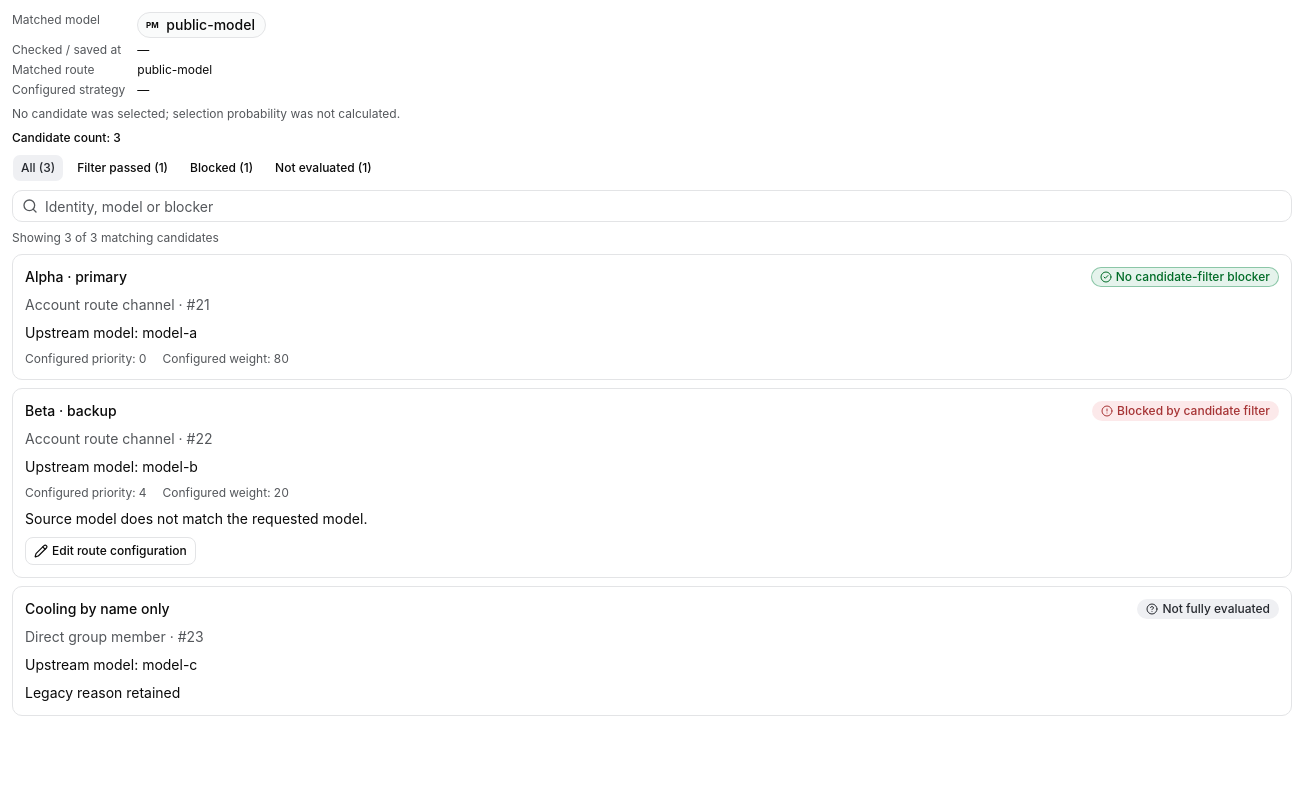
Test: diagnostic candidate inventory › filters by evaluated state without inferring it from a candidate name
Click the button "Blocked (1)".
click(222, 168)  # box [181,154,262,182]
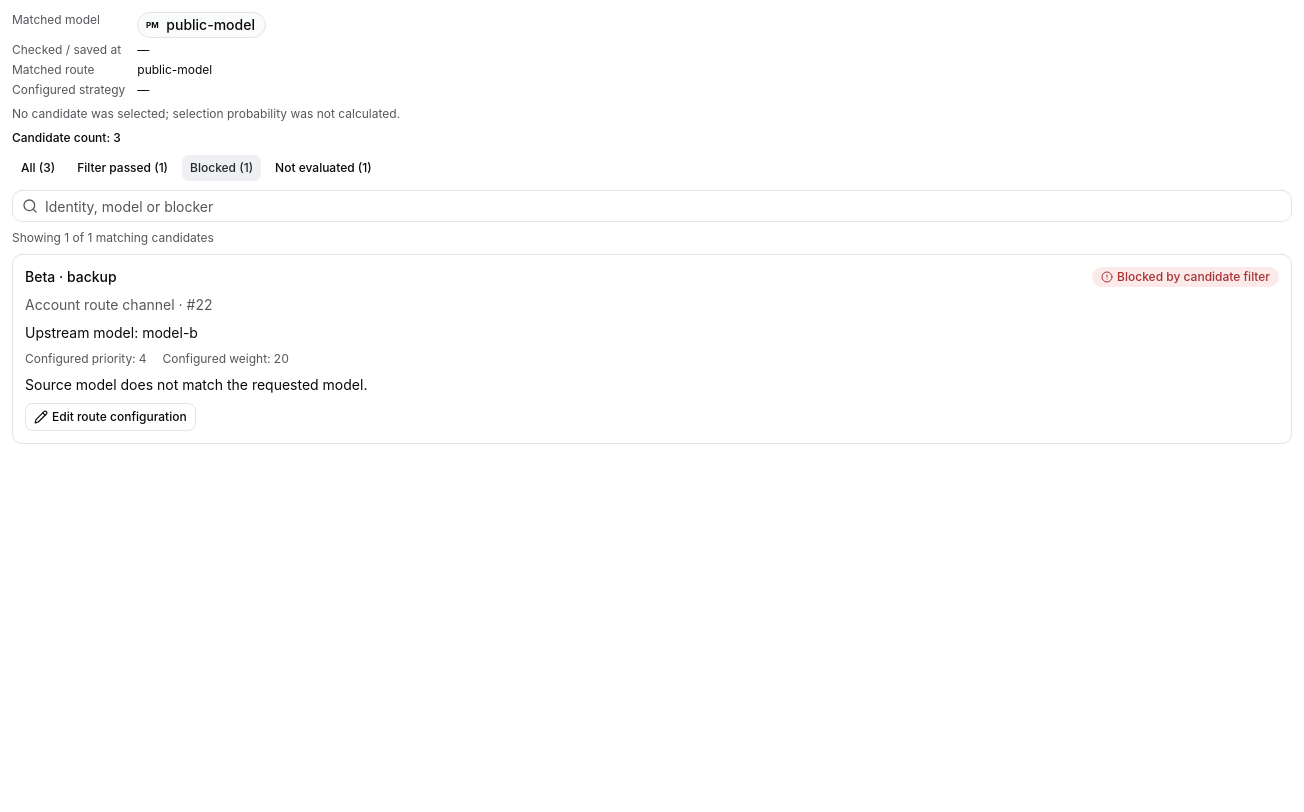
Expected: the text "Beta · backup" is shown, [25,267,117,287]
Expected: the text "Alpha · primary" is gone
Expected: the text "Cooling by name only" is gone
Click the button "Not evaluated (1)".
click(323, 168)  # box [266,154,381,182]
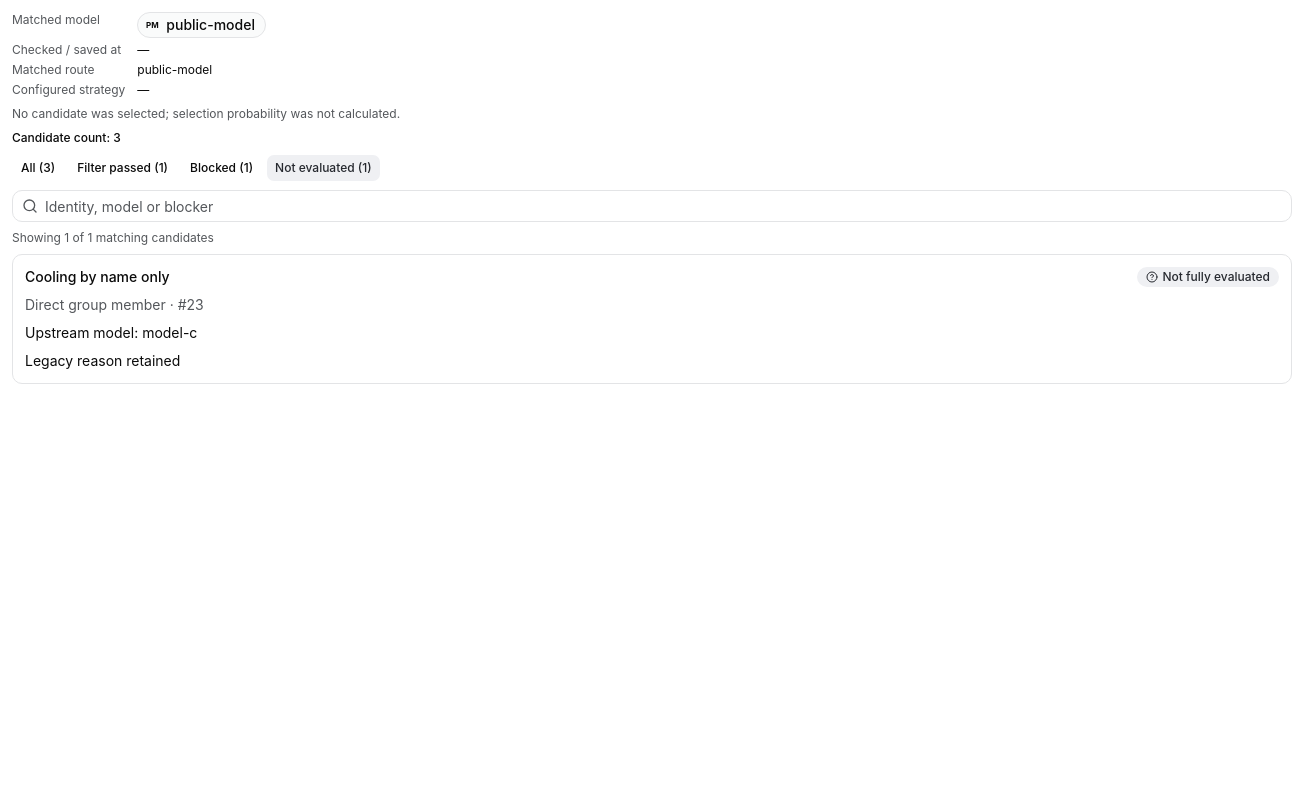
Expected: the text "Cooling by name only" is shown, [25,267,170,287]
Expected: the text "Legacy reason retained" is shown, [25,352,180,369]
